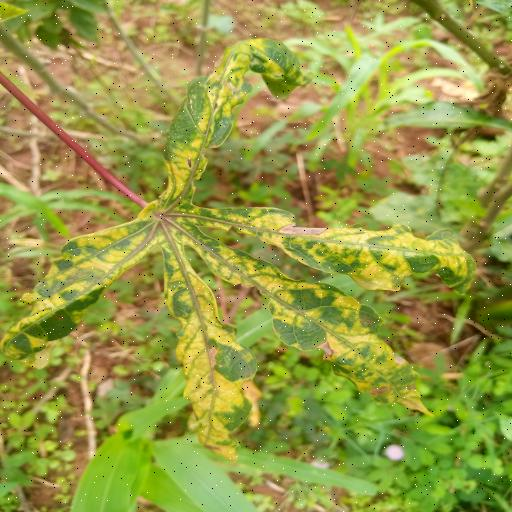Cassava_Mosaic: (5, 39, 474, 455)
